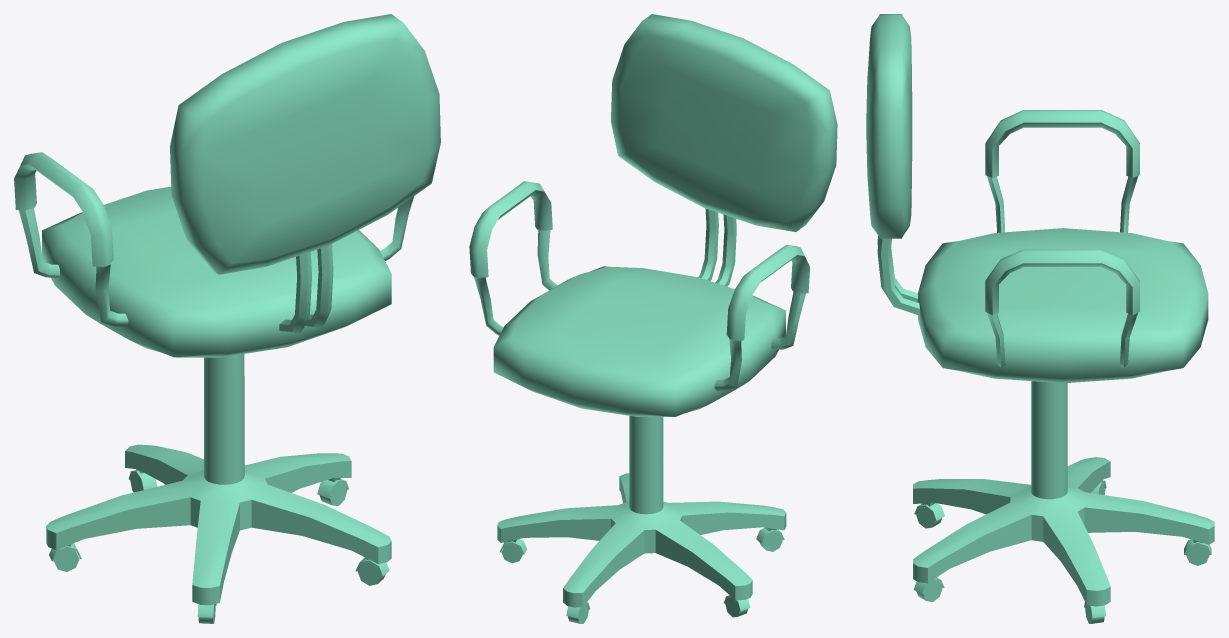
The model's file is Office_Chair.FBX.
The picture shows the model from 3 angles, left to right: view 1: azimuth 30°, elevation 25°; view 2: azimuth 150°, elevation 25°; view 3: azimuth 270°, elevation 25°; orthographic projection. The views are drawn at different scales.
Visible parts, largest first — view 1: Office_Chair; view 2: Office_Chair; view 3: Office_Chair.
Part boxes in pixels (x1=…): Office_Chair: x1=14, y1=14, x2=440, y2=623; Office_Chair: x1=469, y1=14, x2=837, y2=623; Office_Chair: x1=866, y1=14, x2=1214, y2=623.
Size of the model in its own units: 42.35 by 70.67 by 41.98.
